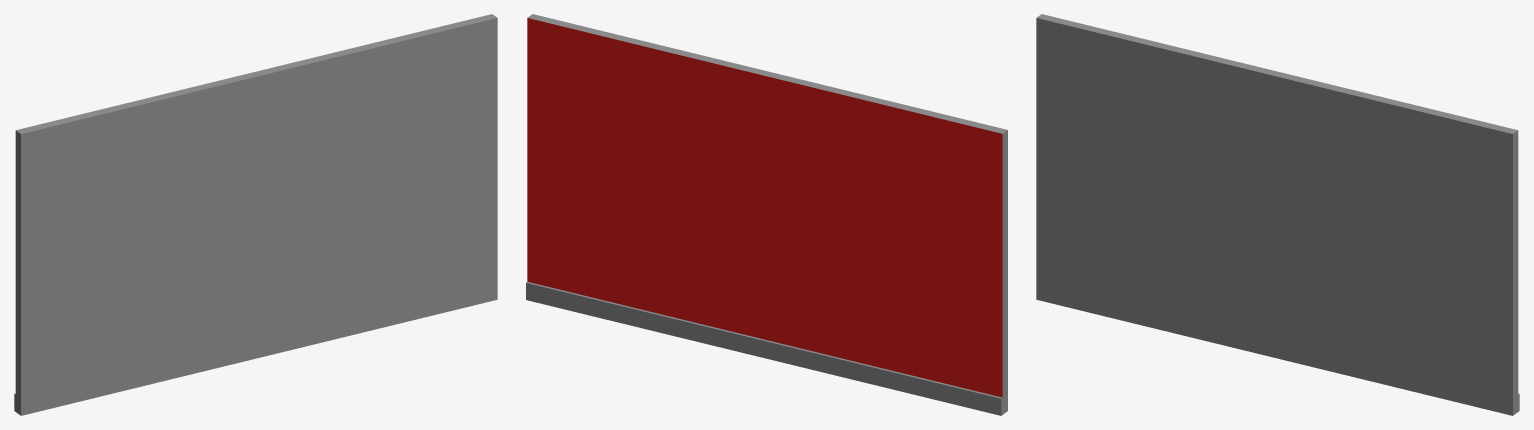
The model's file is Wall 4.FBX.
3 renders of one model, left to right at view 1: azimuth 30°, elevation 25°; view 2: azimuth 150°, elevation 25°; view 3: azimuth 330°, elevation 25°, orthographic.
Parts seen in each view (by area): view 1: Wall 4; view 2: Wall 4; view 3: Wall 4.
Part boxes in pixels (<box>): Wall 4: <box>14,14,497,415</box>; Wall 4: <box>526,14,1007,415</box>; Wall 4: <box>1036,14,1519,415</box>.
Bounding box in the file's own units: 461 × 261 × 11.22.
2 materials, 1 textured.
